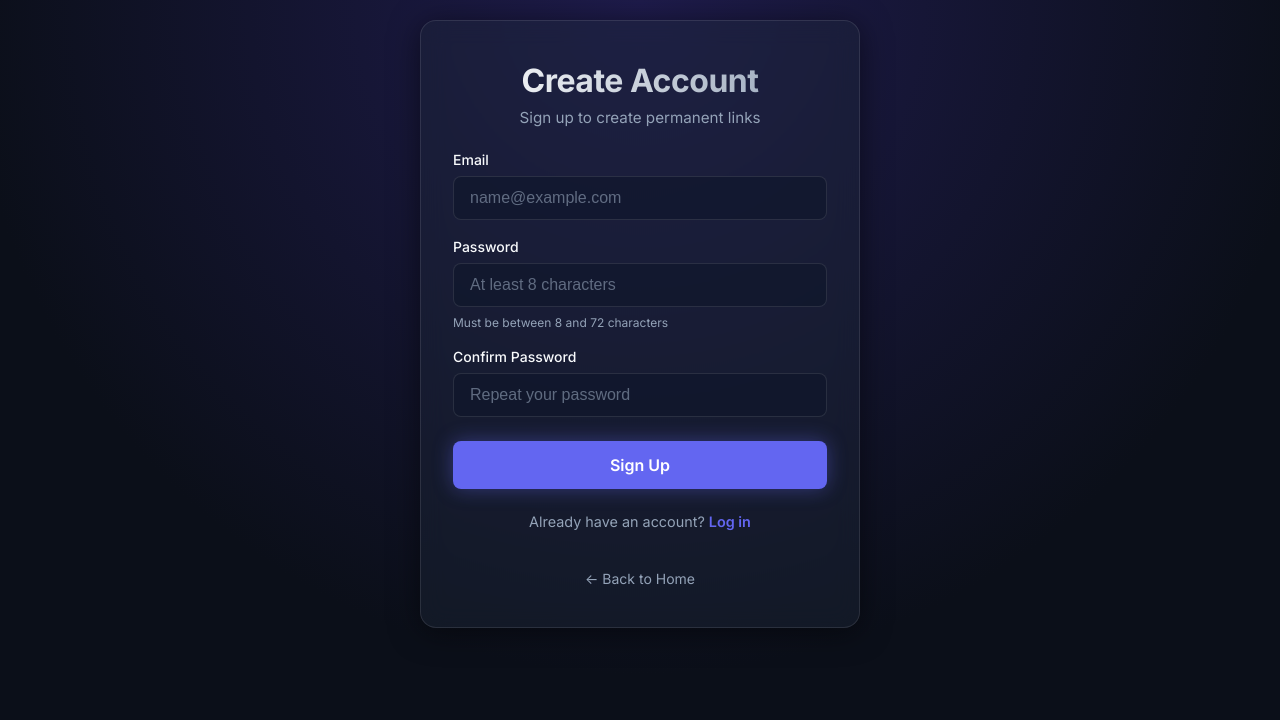
SignupPage Component › validates empty email
The width and height of the screenshot is (1280, 720).
Click the button "Sign Up": (640, 465) [453,441,827,489]
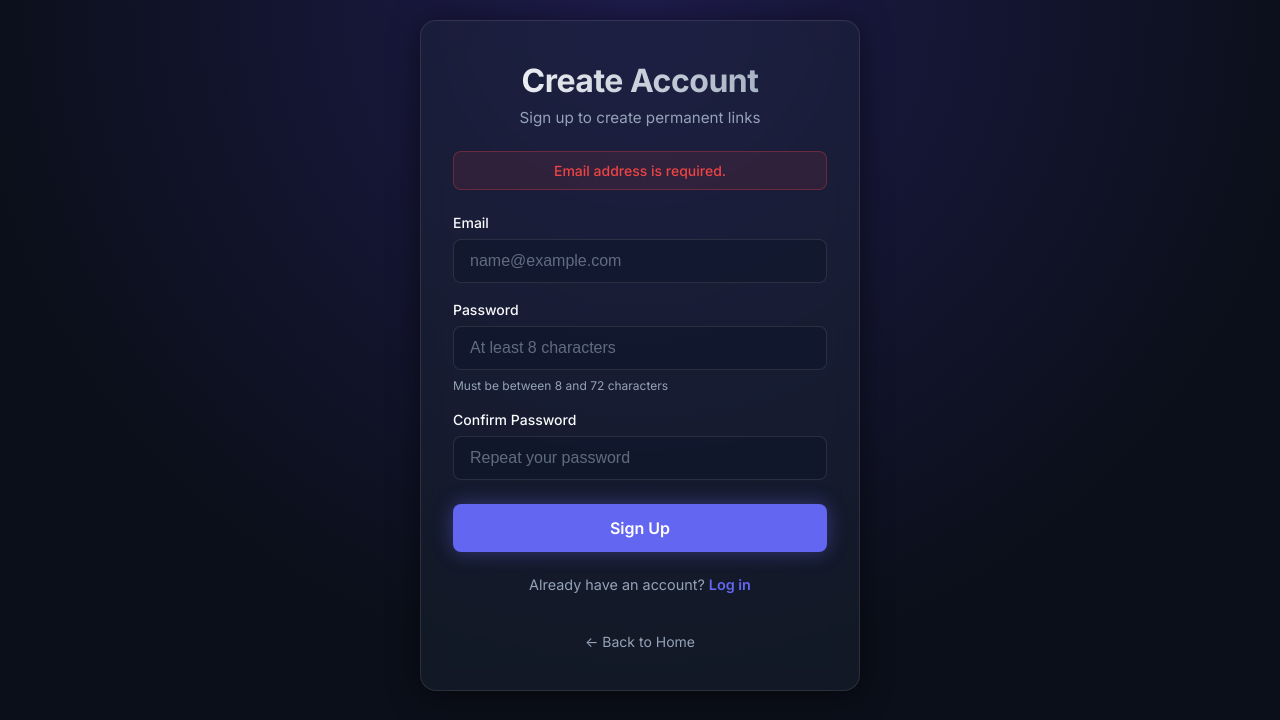
Check: the text "Email address is required." is shown, box [453,151,827,190]
